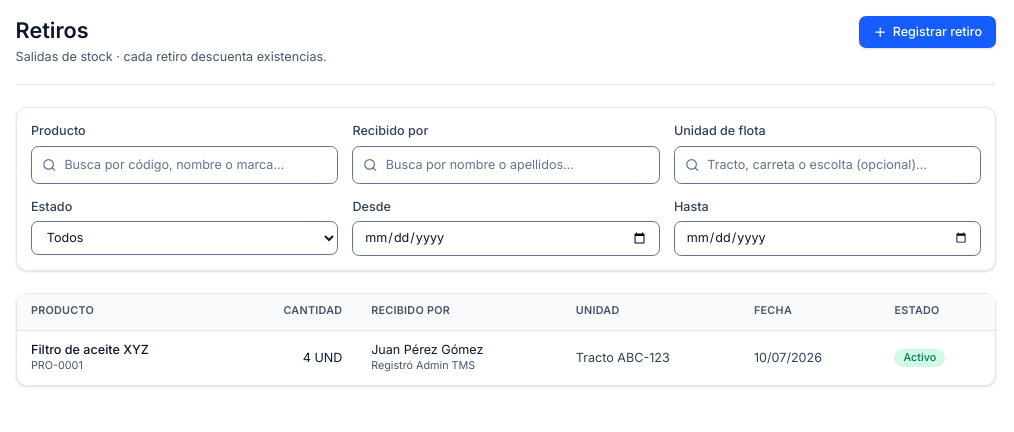
WithdrawalsListPage › avisa del rango invertido y no consulta con él
Expected: the text "Filtro de aceite XYZ" is shown, [31,342,149,357]
Type "2026-07-01" into the date field labelled "Hasta" at (827, 238), box [674,221,981,256]
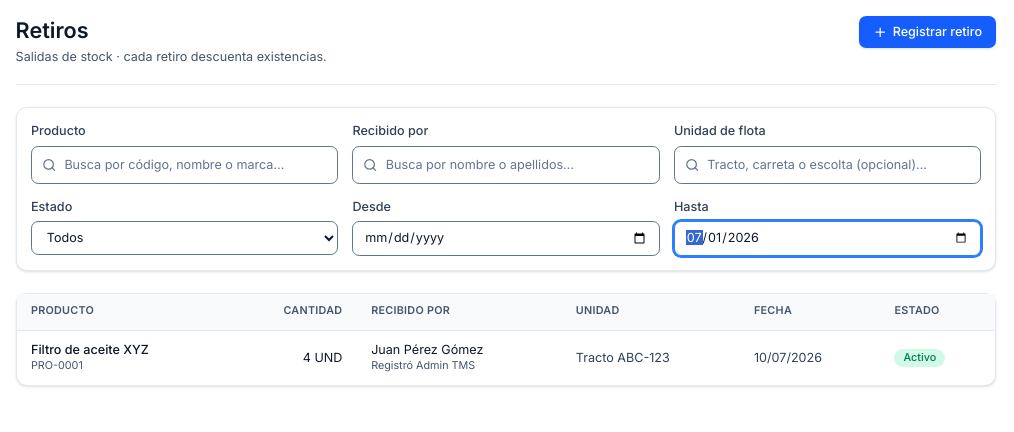
Type "2026-07-31" into the date field labelled "Desde" at (506, 238), box [352,221,660,256]
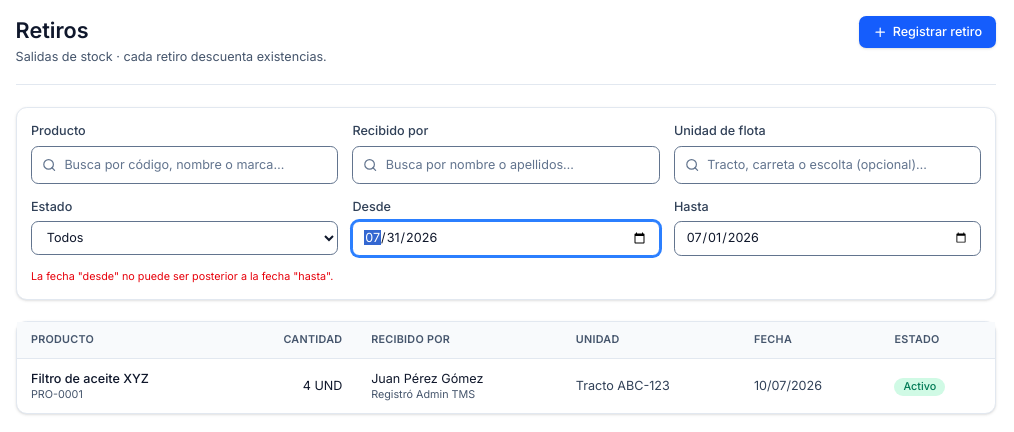
Result: the message shows "no puede ser posterior" at [31,270,333,283]
